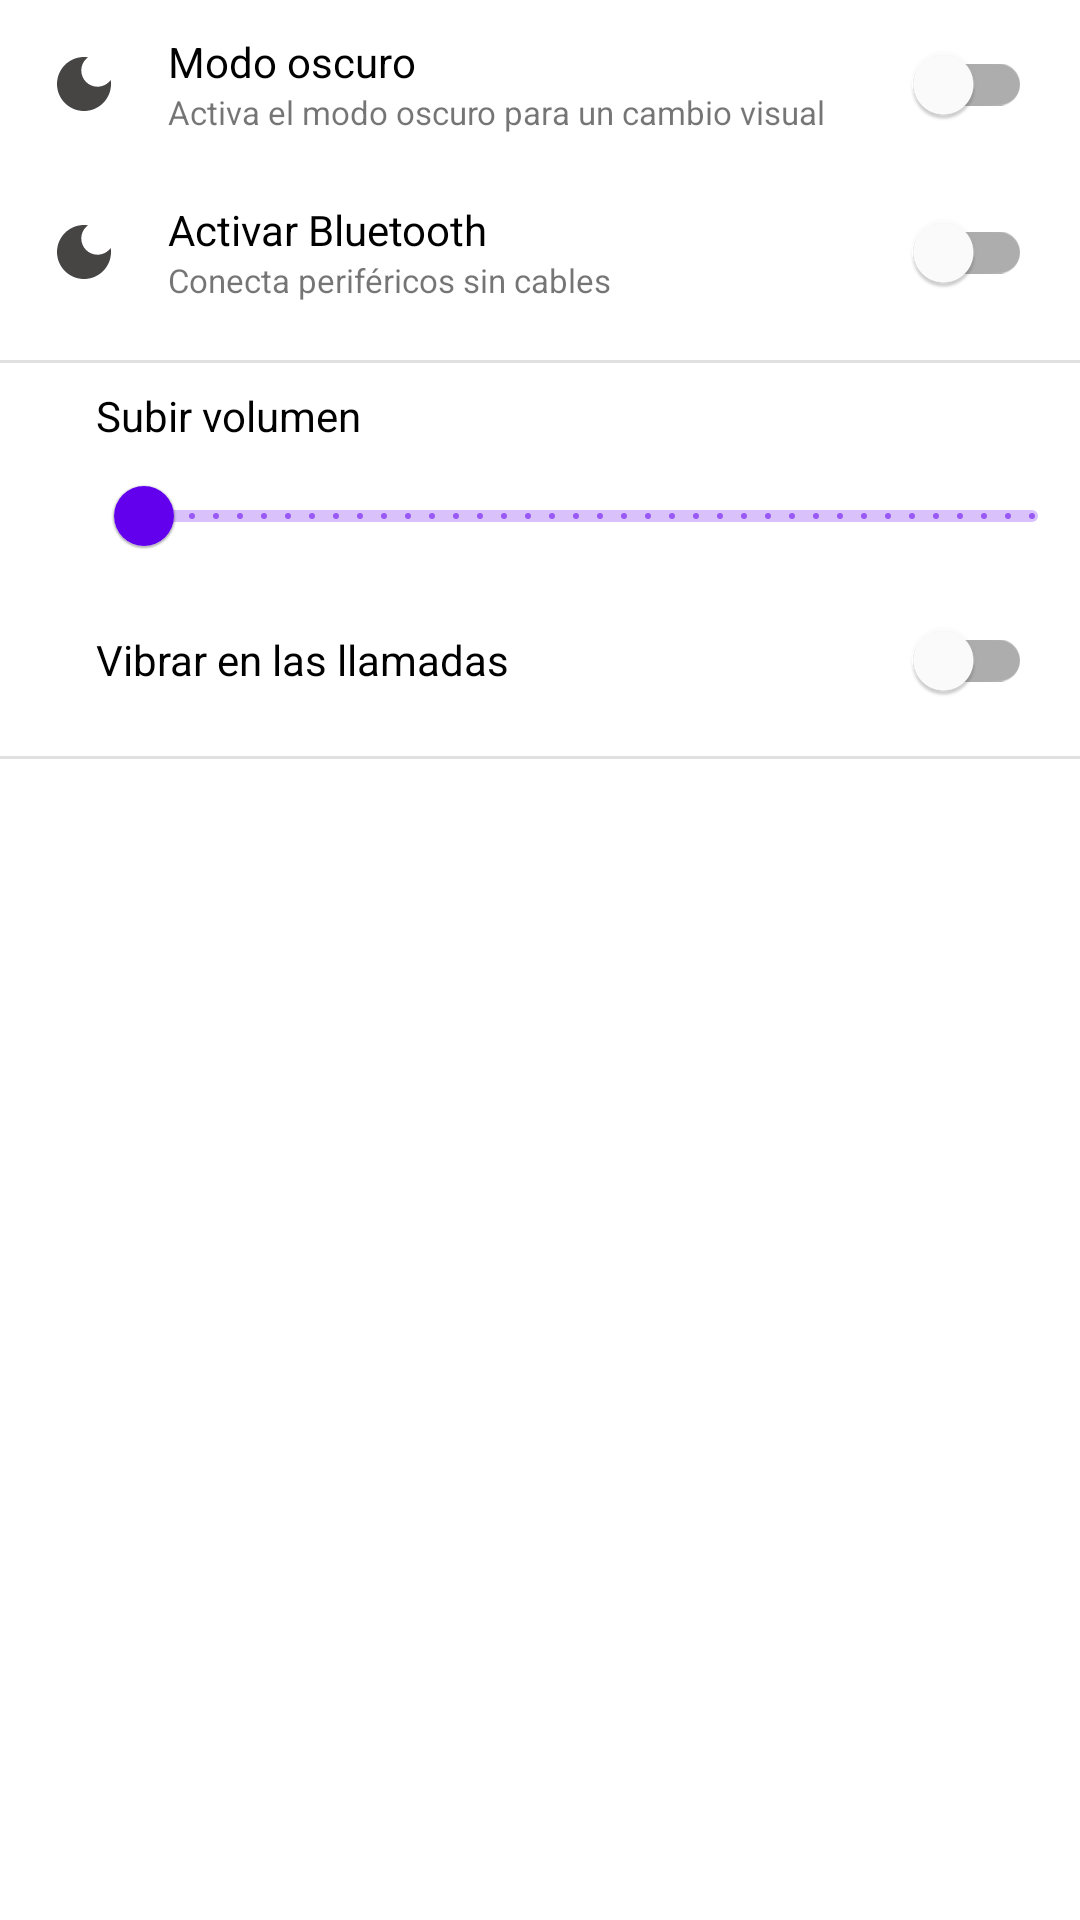

Icons on this 1080px x 1920px Android screen, each with the point to tap as (x=x, y=y):
mode: (x=84, y=84), (x=84, y=252)
